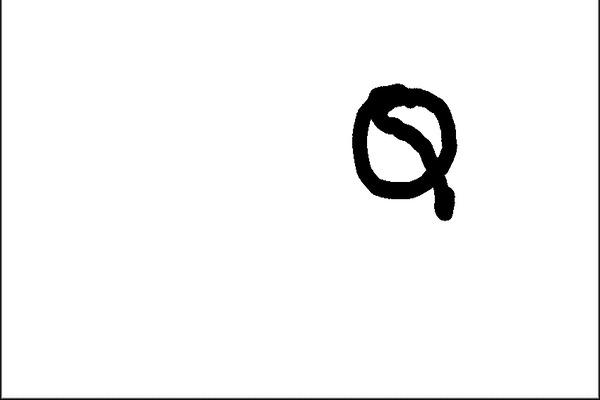Q: (343, 76, 465, 231)
